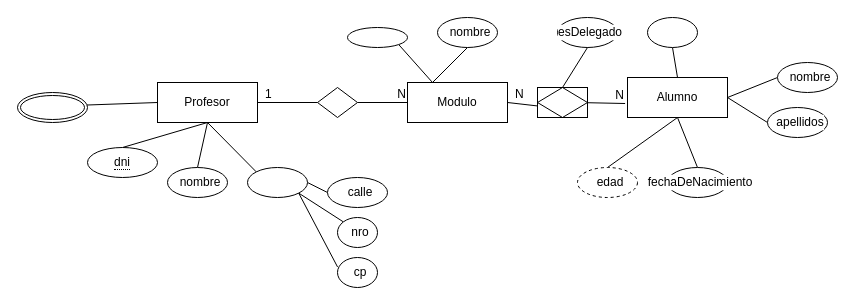
Some shapes in this 855 by 305 pixel diagram are drawn without their labels. The box of each missing label's shape, as (x1, y1, x2, y2) in pixels:
codModulo: (346, 26, 408, 48)
cursa: (536, 86, 588, 118)
domicilio: (246, 166, 308, 198)
imparte: (316, 86, 358, 118)
nroExpediente: (646, 16, 698, 48)
telefono: (16, 92, 88, 122)
